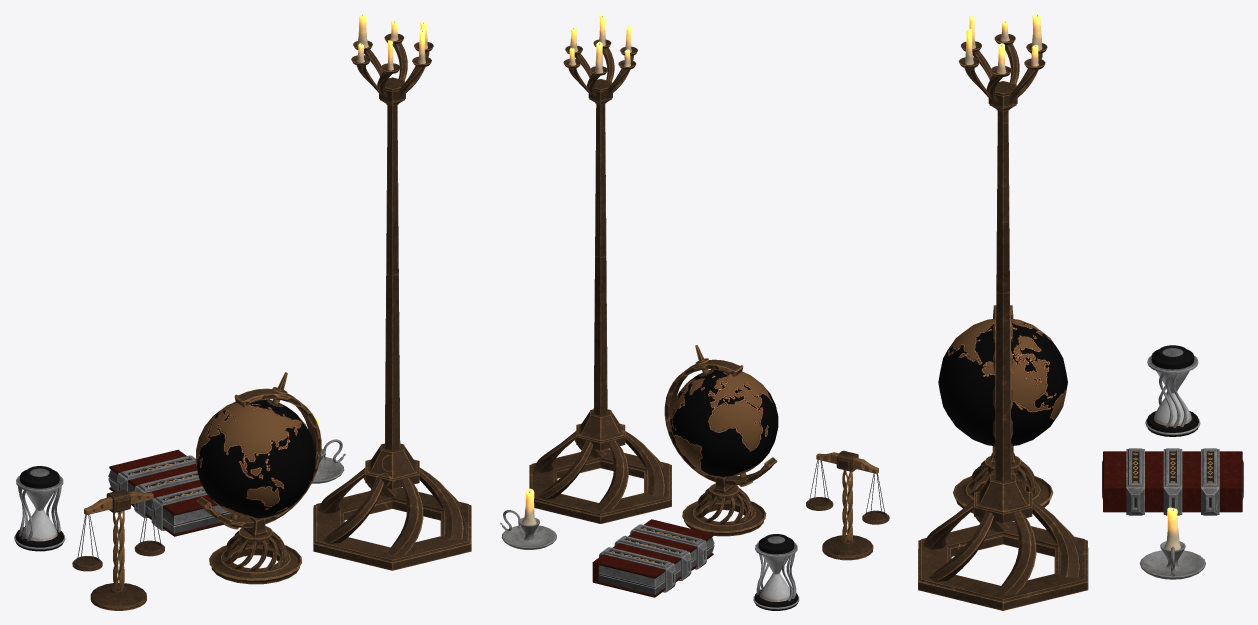
The model's file is 6 study props.fbx.
3 views of the same model, side by side, from view 1: azimuth 30°, elevation 25°; view 2: azimuth 150°, elevation 25°; view 3: azimuth 270°, elevation 25° (orthographic). The views are drawn at different scales.
Parts seen in each view (by area): view 1: CandleStand, Globe, LockedBook, Scale, HourGlass, CandleHolder; view 2: CandleStand, Globe, LockedBook, Scale, HourGlass, CandleHolder; view 3: CandleStand, Globe, LockedBook, HourGlass, CandleHolder.
Part boxes in pixels (x1,y1,x2,y2): CandleStand: (313, 14, 471, 570); Globe: (195, 372, 321, 584); LockedBook: (108, 449, 240, 536); Scale: (72, 489, 164, 610); HourGlass: (14, 466, 65, 551); CandleHolder: (311, 417, 345, 483); CandleStand: (529, 14, 671, 523); Globe: (664, 345, 778, 536); LockedBook: (592, 519, 714, 597); Scale: (806, 450, 889, 560); HourGlass: (753, 534, 799, 610); CandleHolder: (500, 488, 556, 549); CandleStand: (918, 14, 1088, 610); Globe: (938, 305, 1067, 513); LockedBook: (1102, 448, 1243, 515); HourGlass: (1145, 345, 1200, 436); CandleHolder: (1139, 507, 1205, 579).
Bounding box in the file's own units: 286 × 352 × 189.
